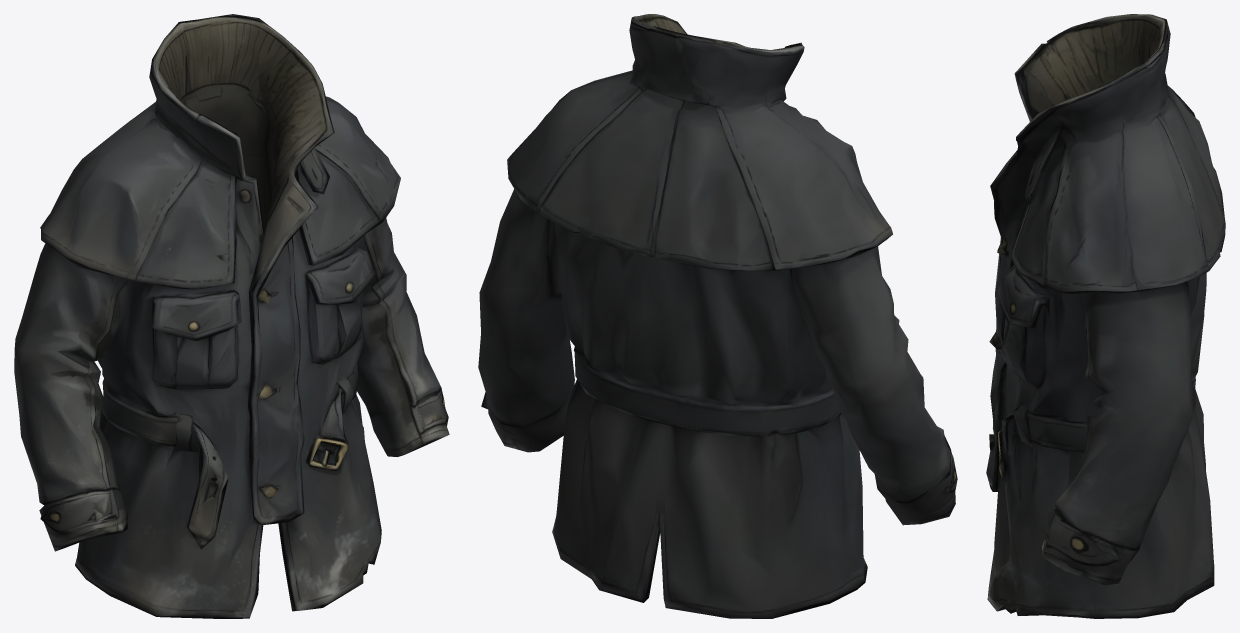
File: PIPELINE3D-arm_oilskin_coat-batch2-1-delivery-model-fbx-ac31102774e2-98c1cc98d771.fbx
3 views of the same model, side by side, from view 1: azimuth 30°, elevation 25°; view 2: azimuth 150°, elevation 25°; view 3: azimuth 270°, elevation 25° (orthographic). The views are drawn at different scales.
Parts seen in each view (by area): view 1: tripo_node_5789000d-1923-4b9c-8776-2887086465b6; view 2: tripo_node_5789000d-1923-4b9c-8776-2887086465b6; view 3: tripo_node_5789000d-1923-4b9c-8776-2887086465b6.
Boxes of the visible parts, x1=… form: tripo_node_5789000d-1923-4b9c-8776-2887086465b6: x1=14, y1=14, x2=449, y2=618; tripo_node_5789000d-1923-4b9c-8776-2887086465b6: x1=478, y1=14, x2=957, y2=618; tripo_node_5789000d-1923-4b9c-8776-2887086465b6: x1=986, y1=14, x2=1225, y2=618.
Bounding box in the file's own units: 96.7 × 120 × 47.11.
Materials: 1 (1 with a texture image).
